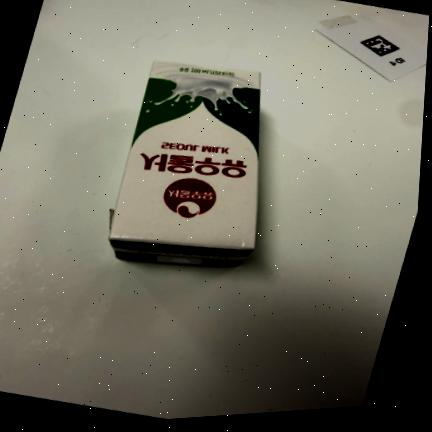milk_green: (108, 59, 261, 268)
